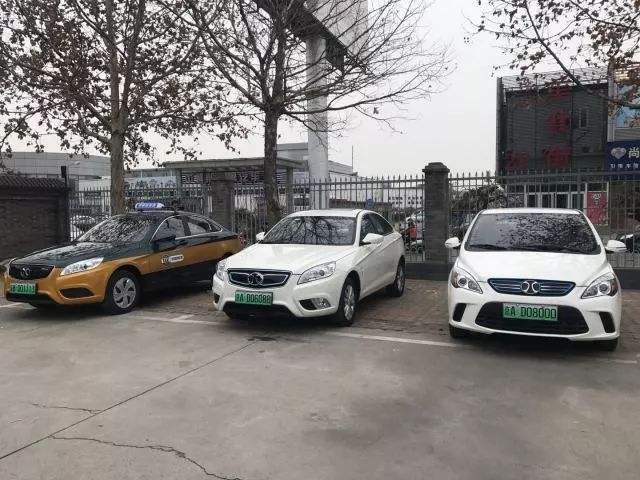plate: (499, 298, 562, 325), (231, 286, 275, 310), (5, 278, 44, 301)
